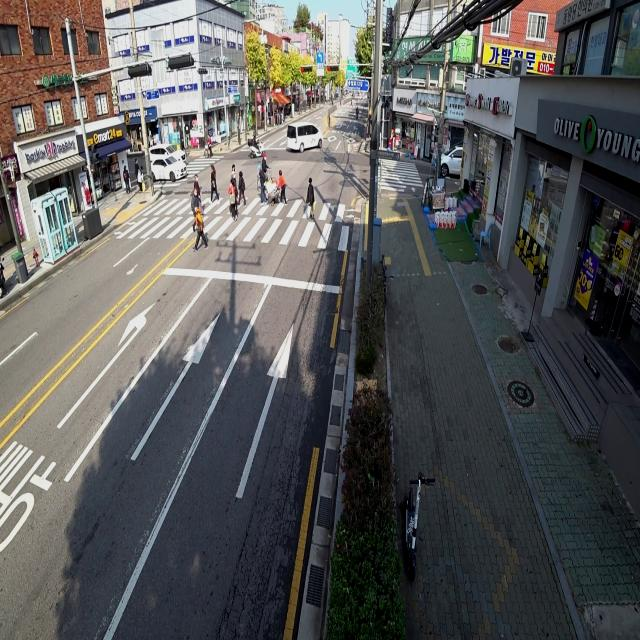Car: (287, 114, 325, 158), (437, 136, 468, 180), (143, 137, 185, 164), (150, 156, 185, 188)
Motorcycle: (247, 130, 265, 158)
